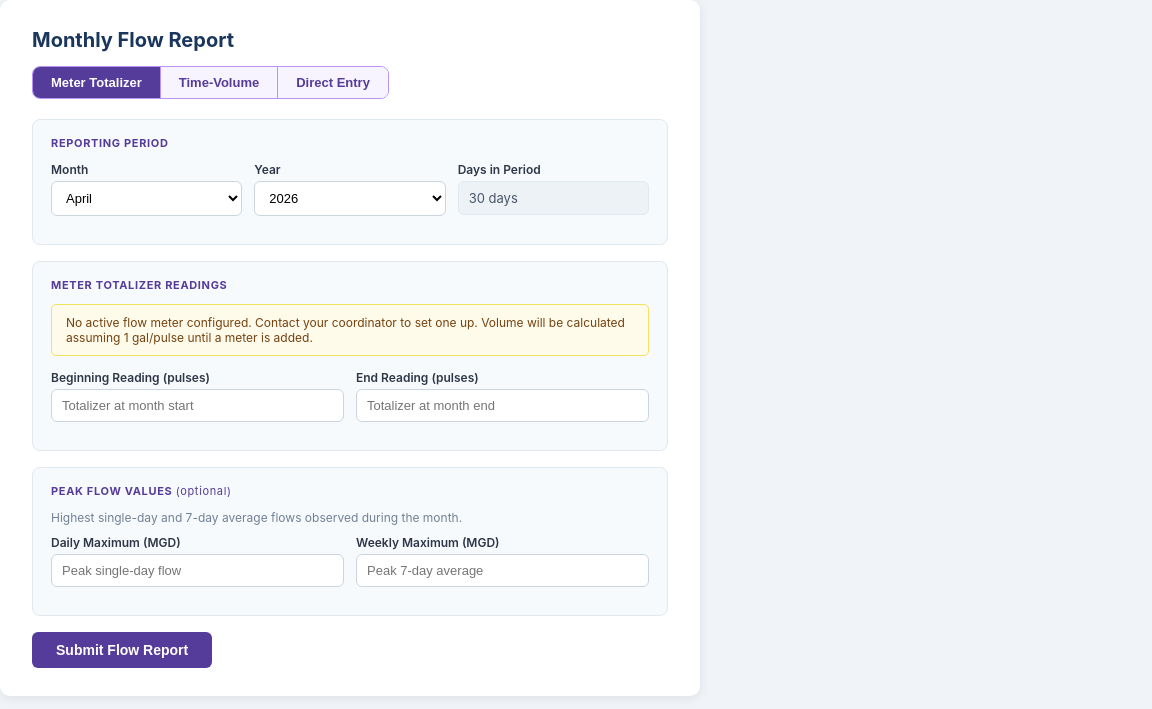
Scenario: MonthlyFlowForm — time-volume method › switching to Time-Volume shows operating hours and first measurement row
Click the button "Time-Volume".
click(220, 82)  # box [161, 67, 278, 98]
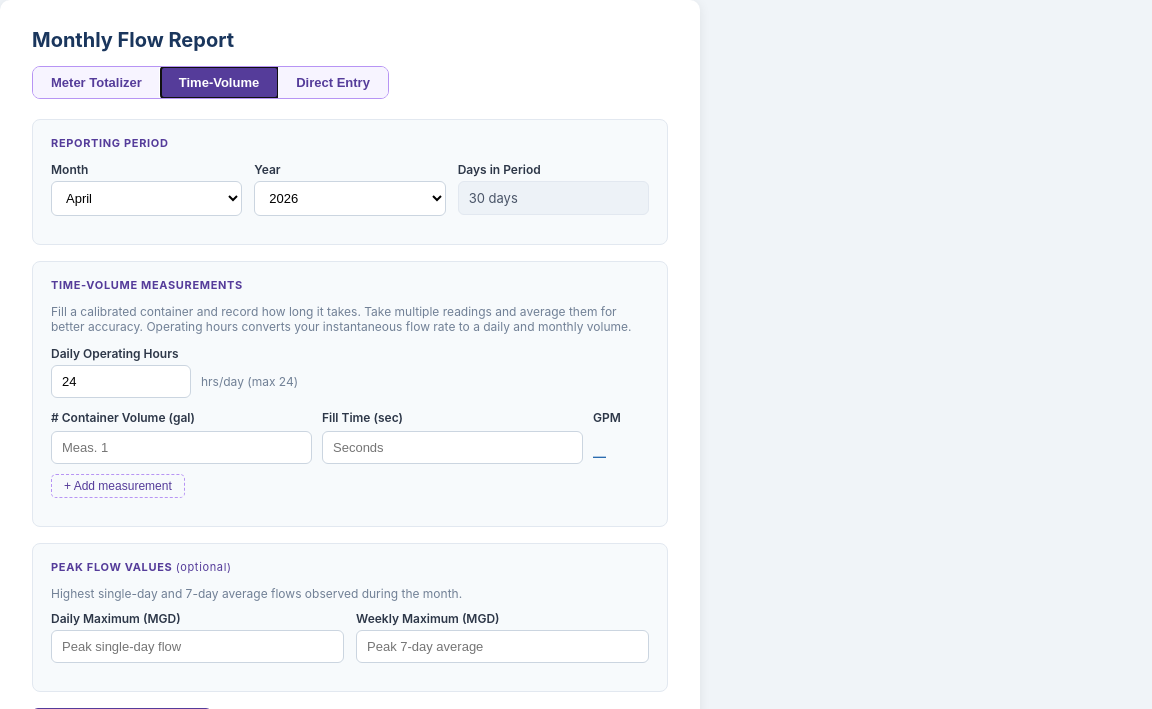
Now the number field with placeholder "Hours/day" is shown, box [51, 365, 191, 398]
Now the number field with placeholder "Meas. 1" is shown, box [51, 431, 312, 464]
Now the number field with placeholder "Seconds" is shown, box [322, 431, 583, 464]
